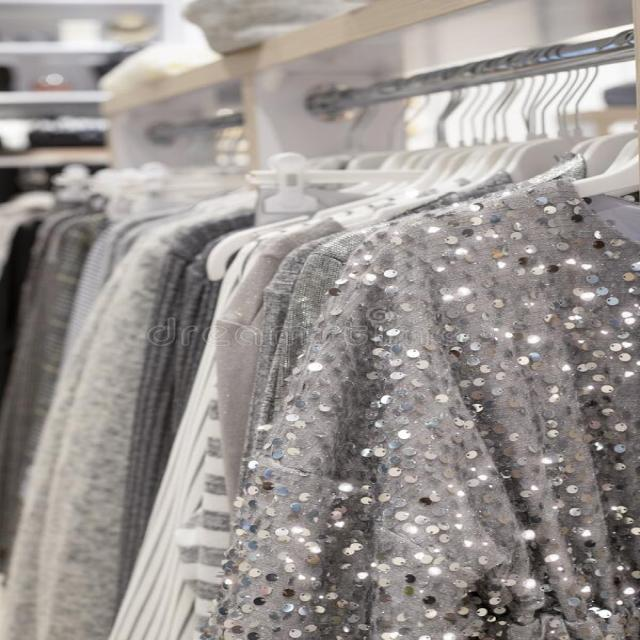clothes: (12, 205, 632, 632)
